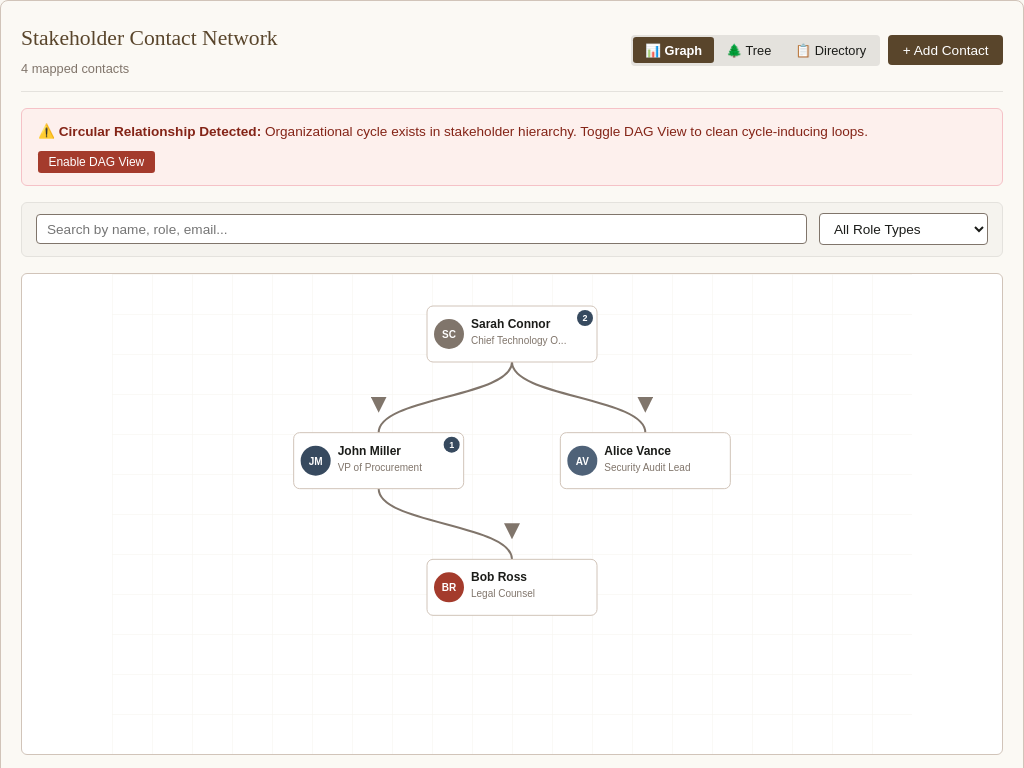
StakeholderGraph Component › User Interactions & Views › renders cycle warning banner when has_cycles is true
Check: the element with test id "cycle-warning-banner" is shown, box left=21, top=108, right=1003, bottom=186
Check: the text "⚠️ Circular Relationship Detected:" is shown, box left=38, top=124, right=261, bottom=139
Click the button with test id "toggle-dag-btn": (96, 162) left=38, top=151, right=155, bottom=173
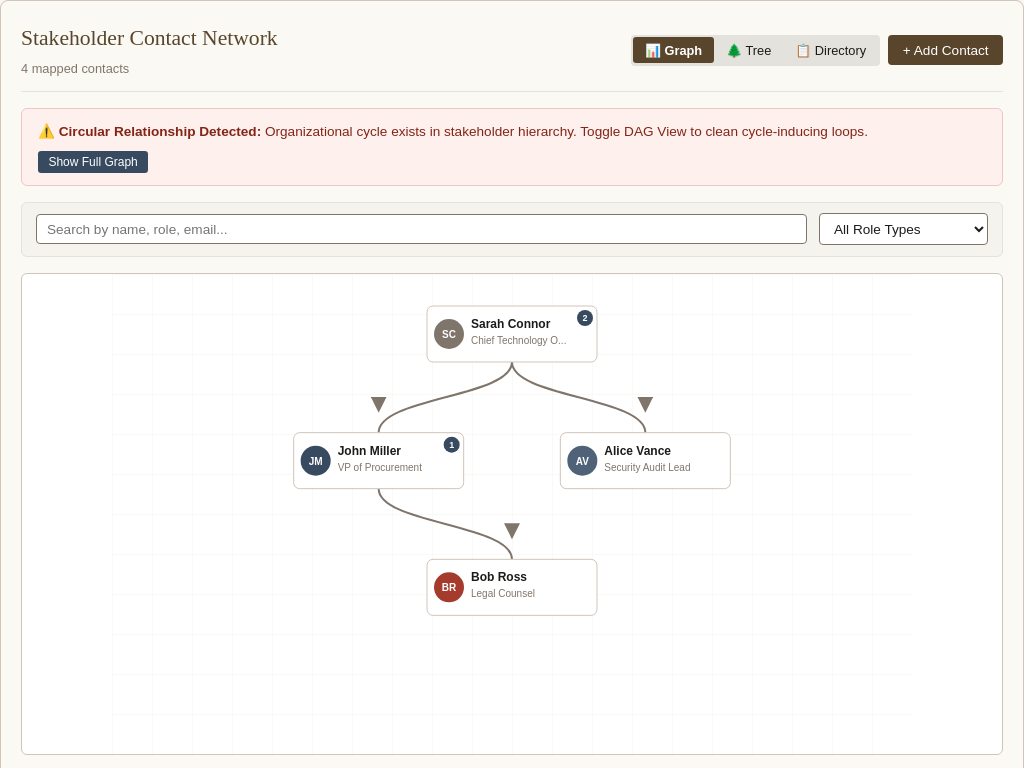
Check: the button with test id "toggle-dag-btn" reads "Show Full Graph", box left=38, top=151, right=148, bottom=173
